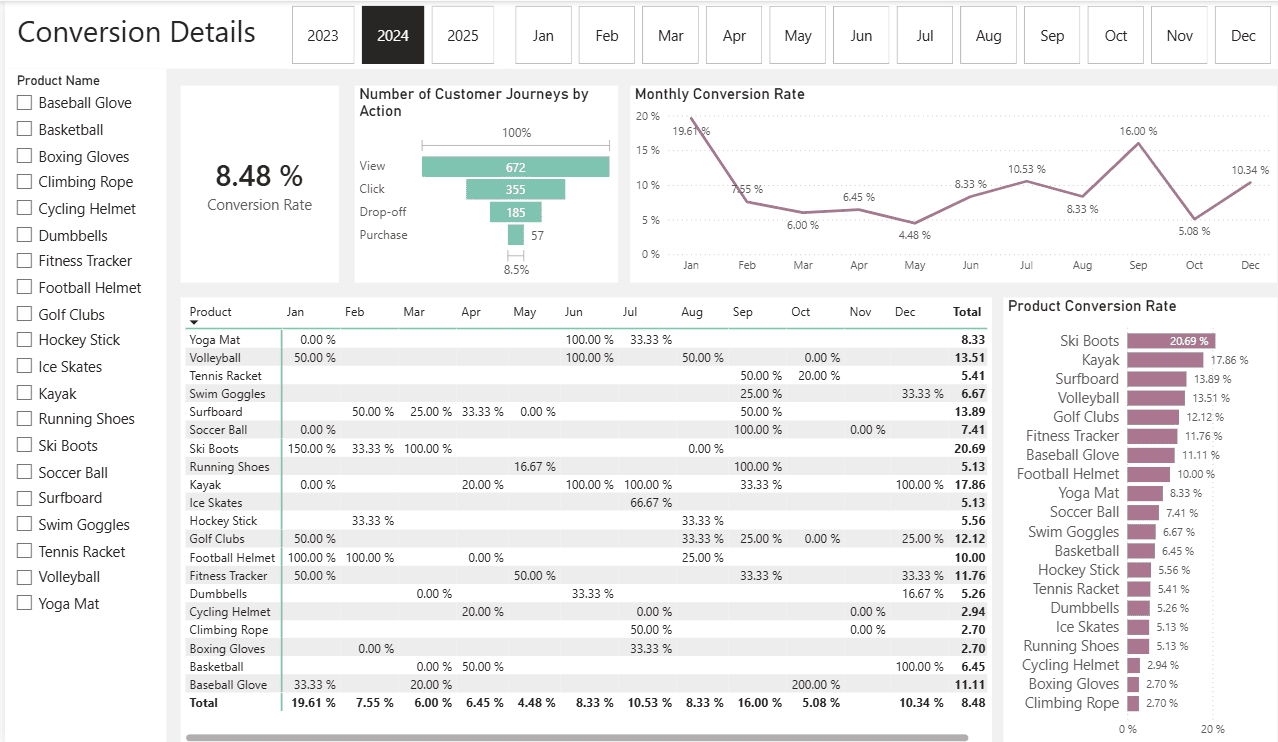

Layout of this report page (visuals, bound fields, positions):
{"tool":"powerbi","page":{"name":"Conversion Details","canvas":[1400,820],"ordinal":1},"visuals":[{"type":"textbox","box":[0,0,1400.3,74.4],"z":0},{"type":"slicer","fields":{"Values":["dim_product.ProductName"]},"box":[0,74.4,177.4,745.2],"z":1000},{"type":"advancedSlicerVisual","fields":{"Values":["Date.Year"]},"box":[310.4,0,234.6,74.4],"z":2000},{"type":"advancedSlicerVisual","fields":{"Values":["Date.MonthNameShort"]},"box":[556.4,0,843.9,74.4],"z":3000},{"type":"cardVisual","fields":{"Data":["_mesures.Conversion Rate"]},"box":[192.9,92.9,174.3,217.1],"z":4000},{"type":"lineChart","title":"Monthly Conversion Rate ","fields":{"Y":["_mesures.Conversion Rate"],"Category":["Date.MonthNameShort"]},"box":[688.6,92.9,711.4,217.1],"z":5000},{"type":"clusteredBarChart","title":"Product Conversion Rate ","fields":{"Category":["dim_product.ProductName"],"Y":["_mesures.Conversion Rate"]},"box":[1098.6,325.7,301.4,494.3],"z":6000},{"type":"funnel","title":" Number of Customer Journeys by Action","fields":{"Category":["fact_customer_journey.Action"],"Y":["CountNonNull(fact_customer_journey.CustomerID)"]},"box":[384.3,92.9,290,217.1],"z":7000},{"type":"pivotTable","fields":{"Values":["_mesures.Conversion Rate"],"Rows":["dim_product.ProductName"],"Columns":["Date.MonthNameShort"]},"box":[192.9,325.7,892.9,494.3],"z":8000}]}

Visuals, with their boxes in screenshot pixels (x1, y1, x2, y2), scaled from the page's 1400x820 canvas onto the 1278x742 screenshot:
textbox: [0,0,1277,67]
slicer - dim_product.ProductName: [0,67,162,741]
advancedSlicerVisual - Date.Year: [283,0,498,67]
advancedSlicerVisual - Date.MonthNameShort: [508,0,1277,67]
cardVisual - _mesures.Conversion Rate: [176,84,335,281]
"Monthly Conversion Rate " lineChart: [629,84,1277,281]
"Product Conversion Rate " clusteredBarChart: [1003,295,1277,741]
" Number of Customer Journeys by Action" funnel: [351,84,616,281]
pivotTable - _mesures.Conversion Rate x dim_product.ProductName: [176,295,991,741]
